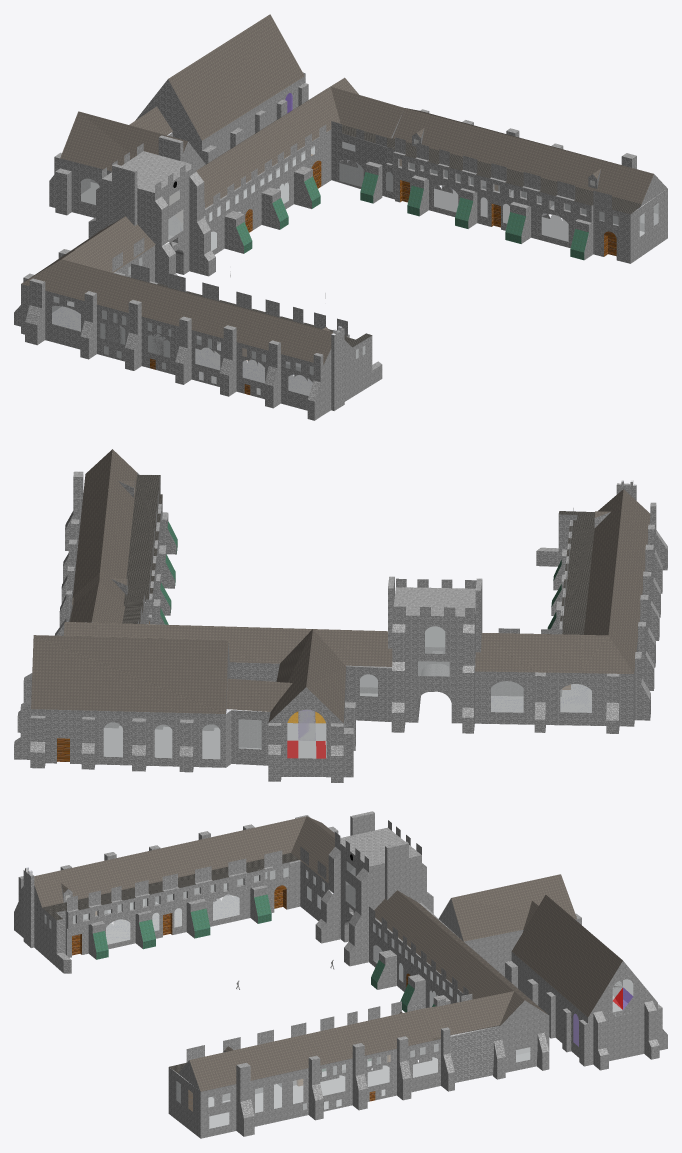
3 views of the same model, one above another, from view 1: azimuth 30°, elevation 25°; view 2: azimuth 150°, elevation 25°; view 3: azimuth 270°, elevation 25° (orthographic). The views are drawn at different scales.
Visible parts, largest first — view 1: SketchUp (×16); view 2: SketchUp (×27); view 3: SketchUp (×15).
Part boxes in pixels (box(x1,y1,x2,y2)): SketchUp (×16): box(14, 14, 667, 420); SketchUp (×27): box(14, 449, 667, 782); SketchUp (×15): box(14, 811, 667, 1138).
Bounding box in the file's own units: 4456 × 4535 × 865.
Materials: 14 (7 with a texture image).
